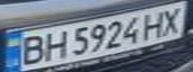2: (103, 17, 127, 50)
4: (121, 14, 148, 45)
5: (69, 24, 93, 56)
9: (87, 21, 109, 53)
B: (12, 33, 51, 66)
H: (139, 9, 172, 40), (39, 28, 69, 62)
X: (154, 3, 190, 36)
